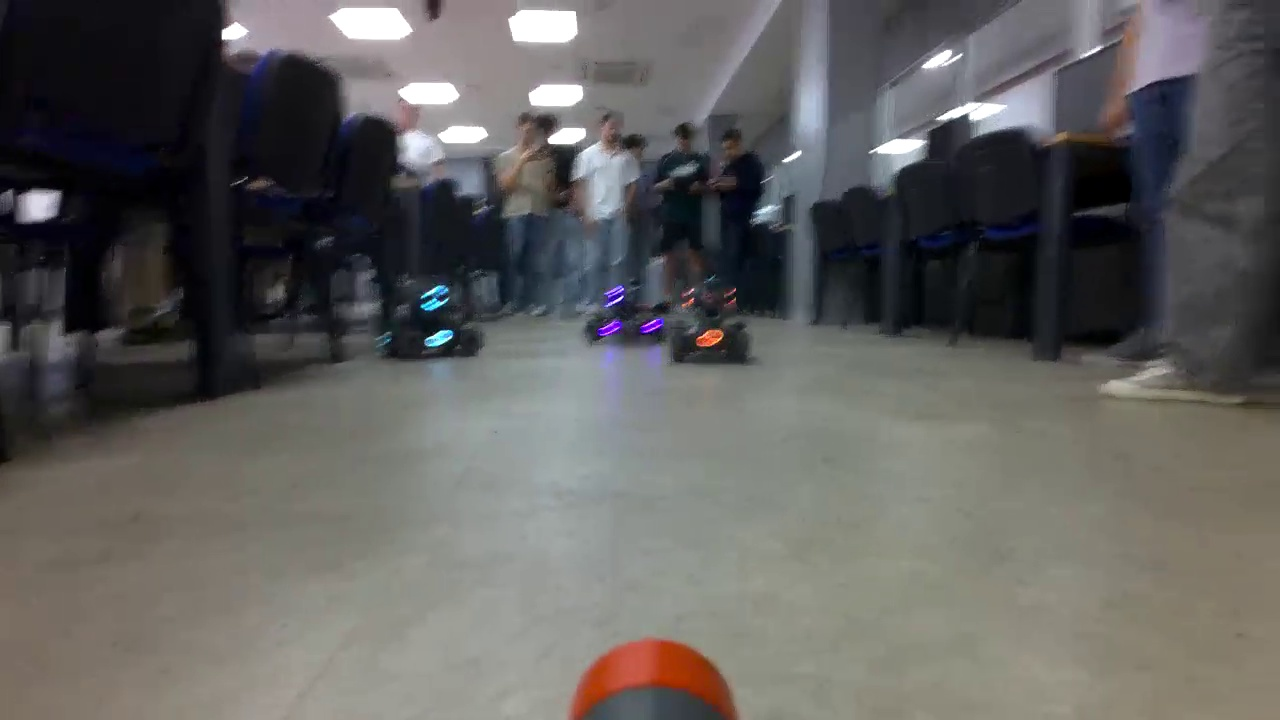robot: (384, 270, 480, 360), (669, 277, 751, 363), (588, 288, 668, 346)
